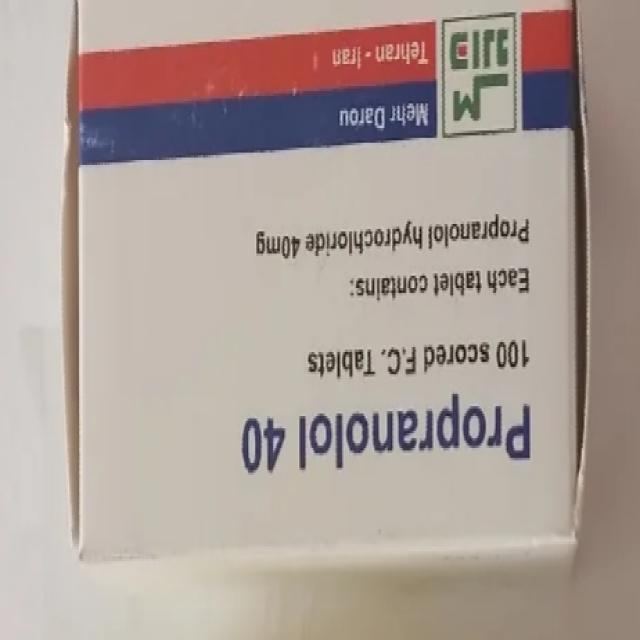drug-name: (233, 394, 544, 475)
